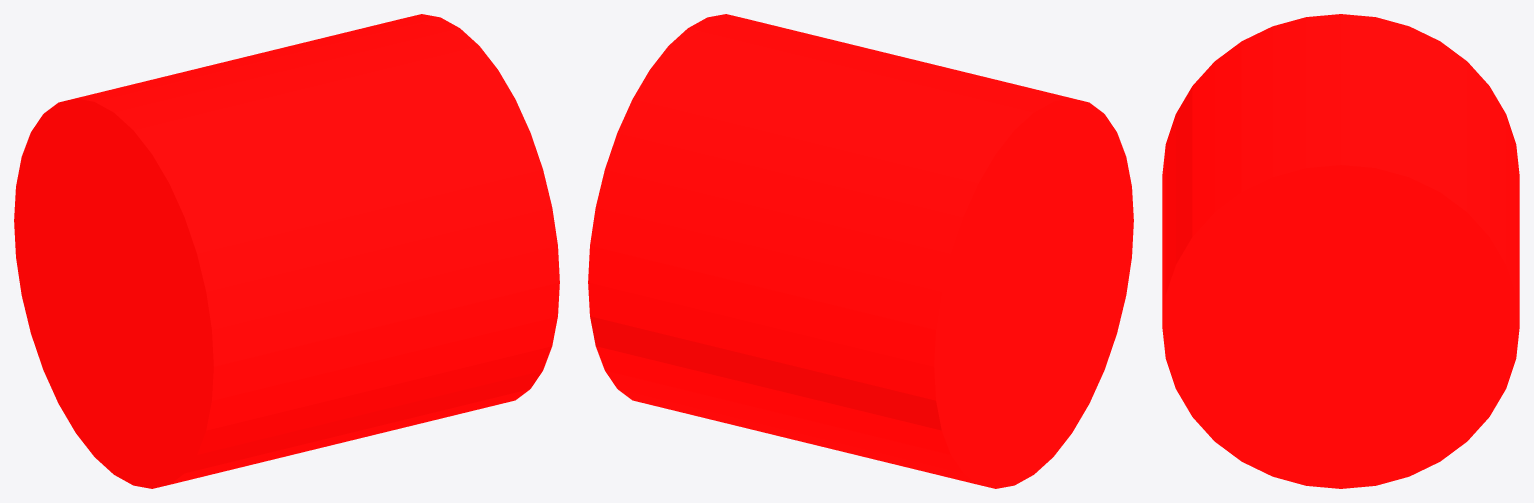
File: UnitCylinderRed.dae
The picture shows the model from 3 angles, left to right: view 1: azimuth 30°, elevation 25°; view 2: azimuth 150°, elevation 25°; view 3: azimuth 270°, elevation 25°; orthographic projection. The views are drawn at different scales.
Parts seen in each view (by area): view 1: Cylinder; view 2: Cylinder; view 3: Cylinder.
Boxes of the visible parts, bbox=[...] form: Cylinder: bbox=[14, 14, 559, 488]; Cylinder: bbox=[588, 14, 1133, 488]; Cylinder: bbox=[1162, 14, 1519, 488].
Size of the model in its own units: 1 by 1 by 1.
